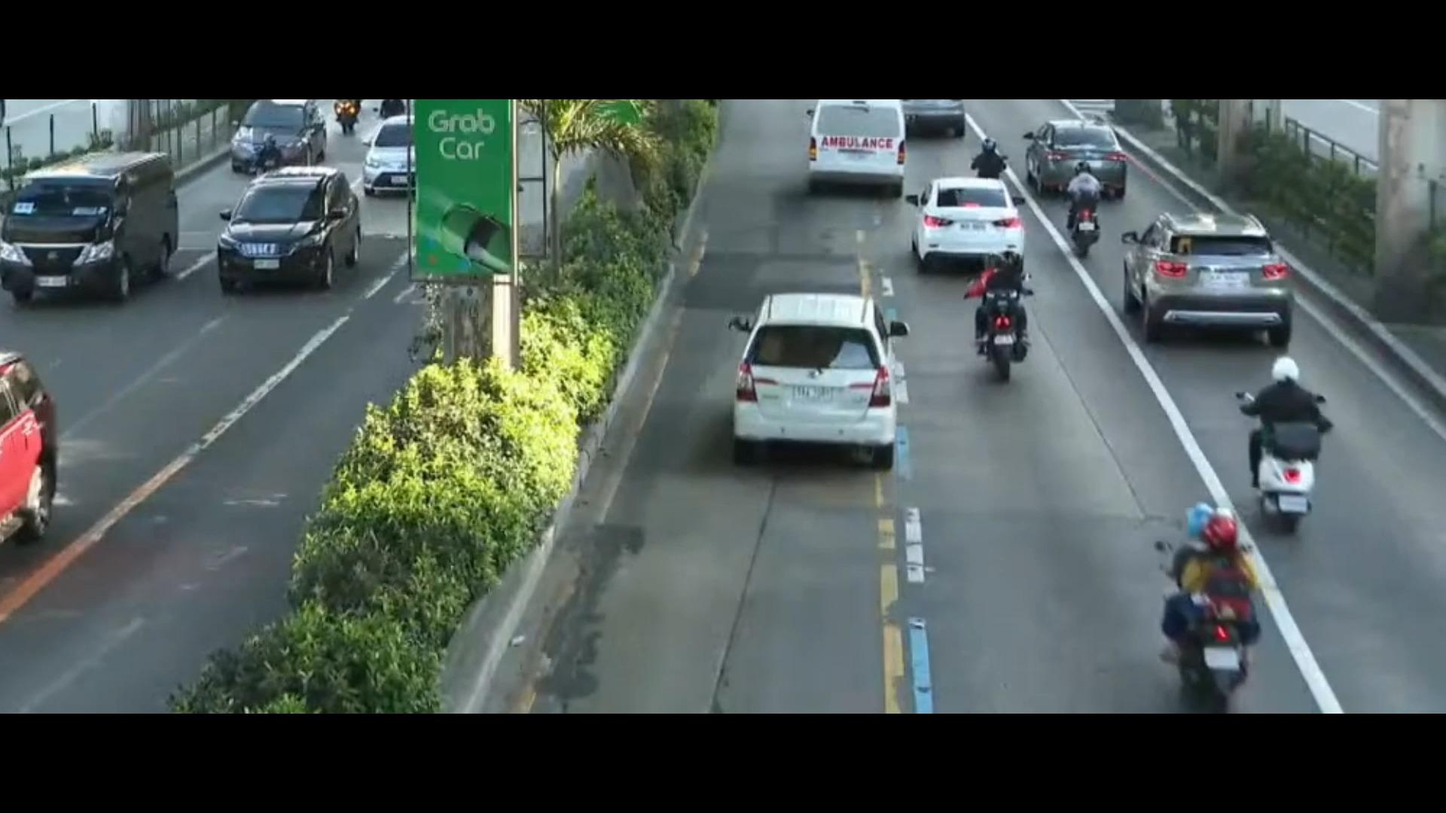Motorcycle: (1125, 477, 1297, 713), (1212, 357, 1334, 529), (955, 239, 1047, 396), (1054, 161, 1113, 258), (969, 144, 1027, 183)
SUV: (708, 287, 914, 476), (1094, 184, 1306, 360), (198, 151, 375, 314)
Sedan: (903, 154, 1022, 272), (1021, 81, 1133, 202), (359, 111, 404, 200)
Van: (0, 146, 189, 310), (210, 88, 329, 169)
ambulance: (791, 103, 905, 209)
